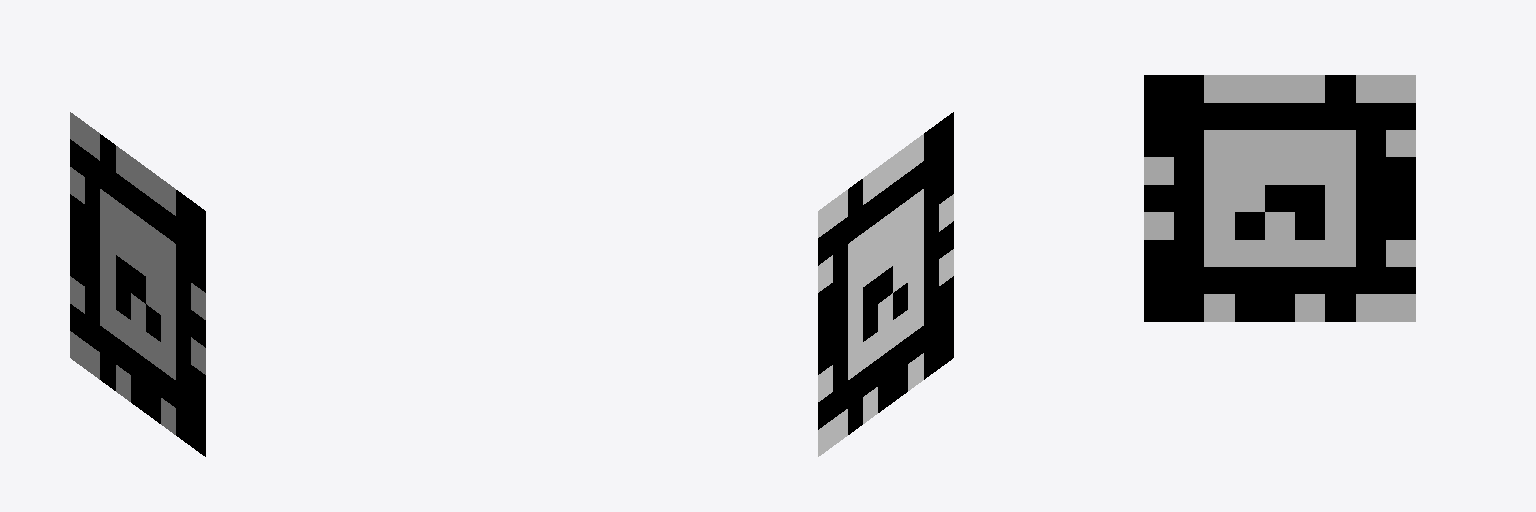
3 renders of one model, left to right at view 1: azimuth 30°, elevation 25°; view 2: azimuth 150°, elevation 25°; view 3: azimuth 270°, elevation 25°, orthographic.
Visible parts, largest first — view 1: Cube.001; view 2: Cube.001; view 3: Cube.001.
Boxes of the visible parts, x1=… form: Cube.001: x1=70, y1=112, x2=205, y2=456; Cube.001: x1=818, y1=112, x2=953, y2=456; Cube.001: x1=1144, y1=75, x2=1415, y2=321.
Bounding box in the file's own units: 10 × 10 × 10.
Materials: 1 (1 with a texture image).